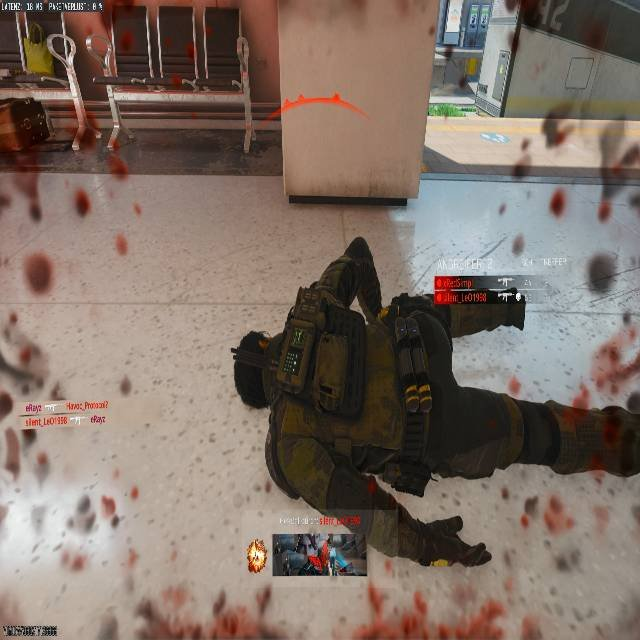head: (325, 238, 381, 309)
player: (237, 236, 498, 570), (24, 0, 140, 169)
